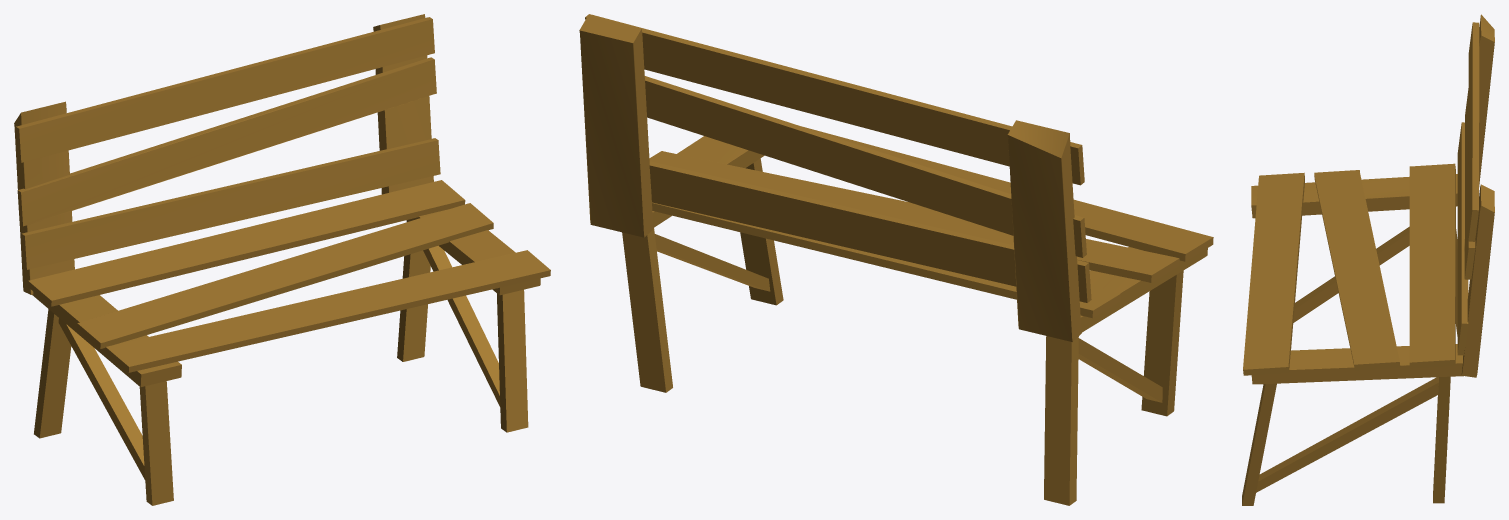
Rendered from Banc2_LowPoly.FBX.
The picture shows the model from 3 angles, left to right: view 1: azimuth 30°, elevation 25°; view 2: azimuth 150°, elevation 25°; view 3: azimuth 270°, elevation 25°; orthographic projection. The views are drawn at different scales.
Parts seen in each view (by area): view 1: Banc 1 High Poly001; view 2: Banc 1 High Poly001; view 3: Banc 1 High Poly001.
Part boxes in pixels (bbox=[...]): Banc 1 High Poly001: bbox=[14, 14, 550, 505]; Banc 1 High Poly001: bbox=[579, 14, 1213, 505]; Banc 1 High Poly001: bbox=[1242, 14, 1494, 505].
Size of the model in its own units: 147 by 108 by 79.88.
